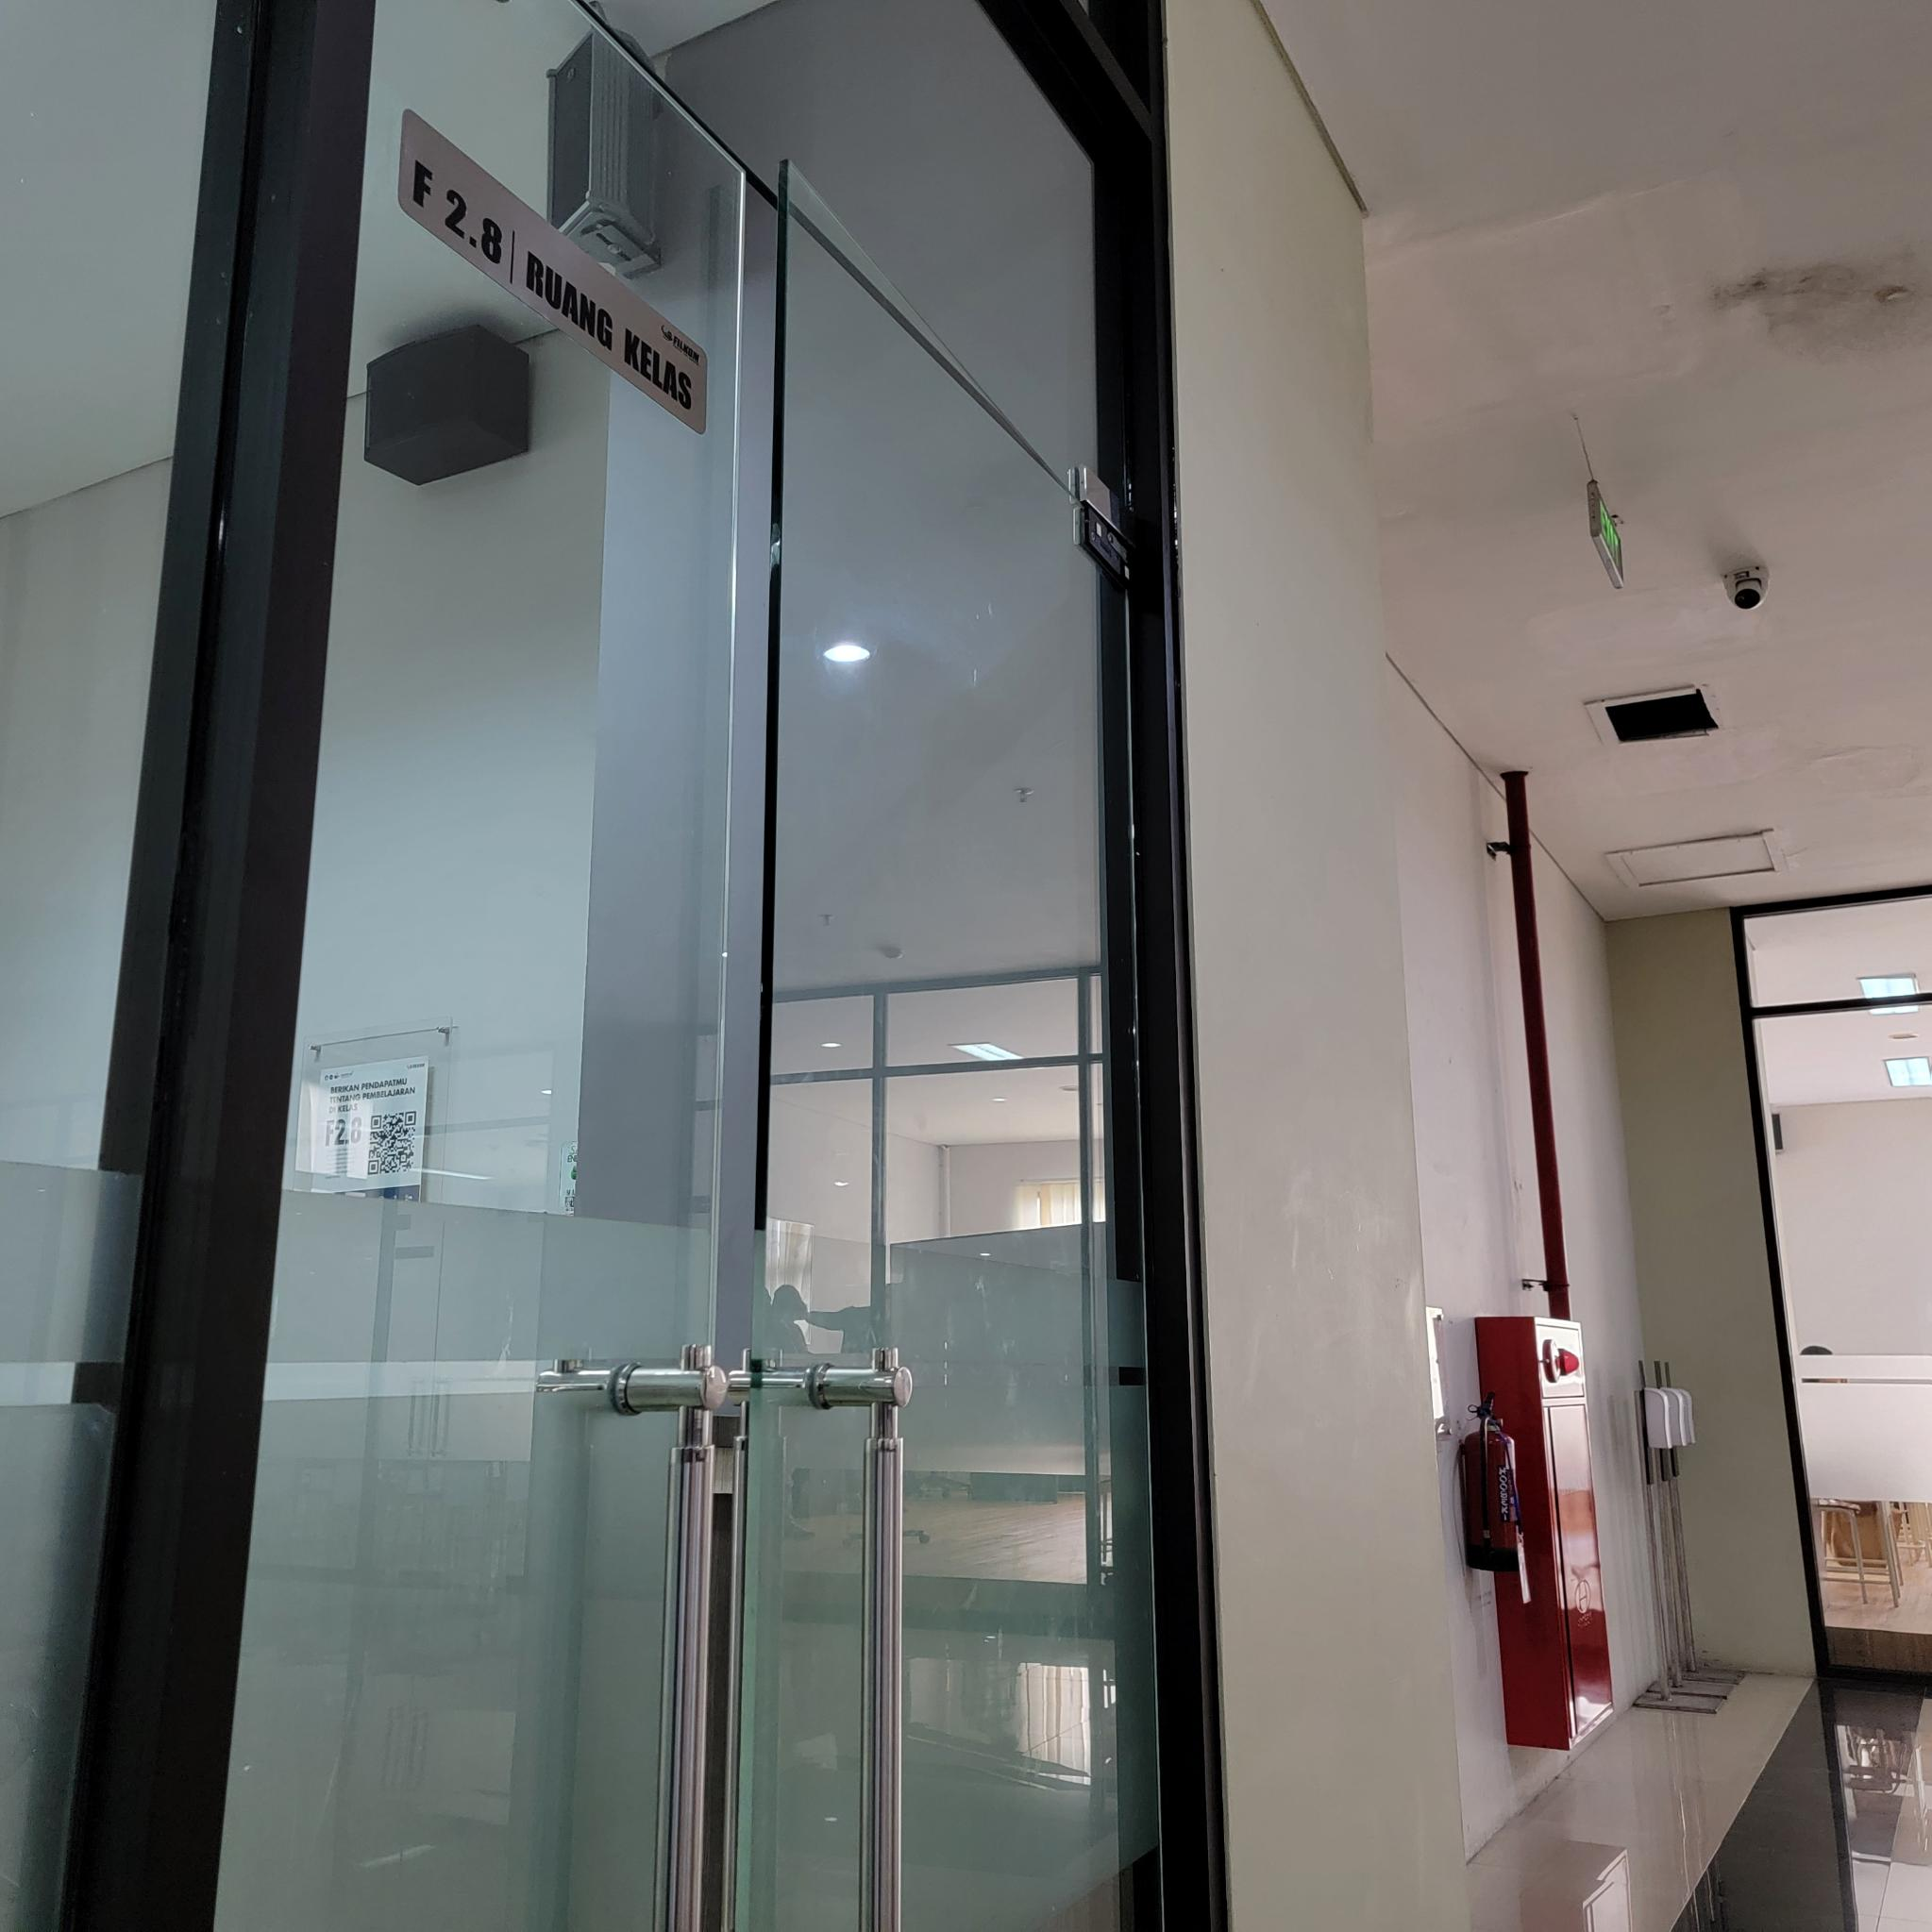plate: (398, 103, 713, 442)
